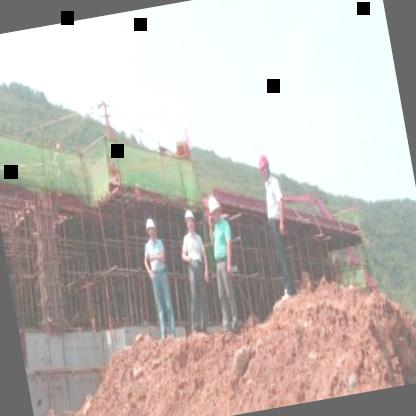helmet: (254, 148, 274, 182), (206, 193, 225, 225), (182, 204, 198, 232), (142, 213, 158, 240)
